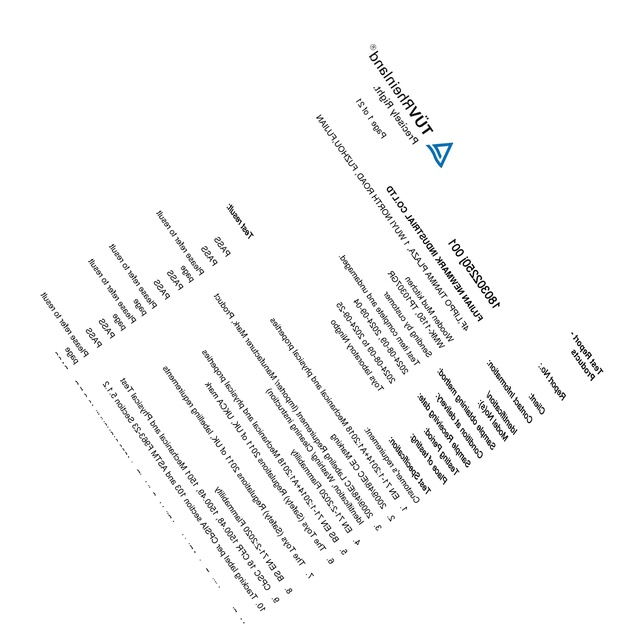tuv_rheinland: (363, 42, 455, 172)
